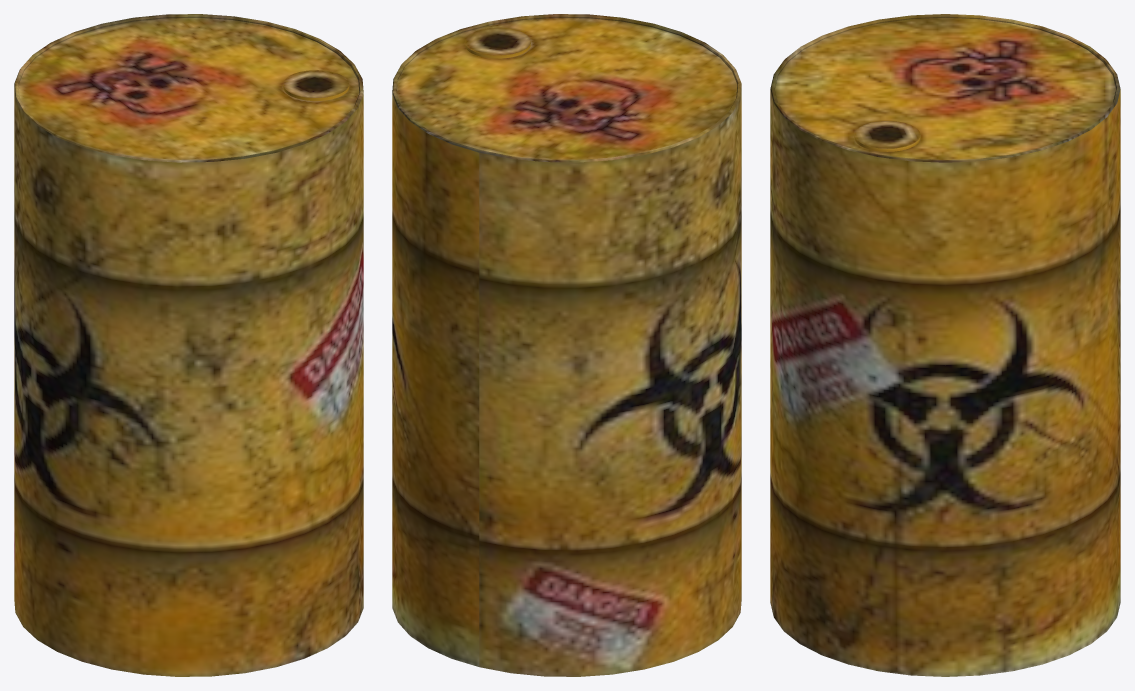
The model's file is biohazard_barrel___low_poly.glb.
The picture shows the model from 3 angles, left to right: view 1: azimuth 30°, elevation 25°; view 2: azimuth 150°, elevation 25°; view 3: azimuth 270°, elevation 25°; orthographic projection.
Visible parts, largest first — view 1: Cylinder; view 2: Cylinder; view 3: Cylinder.
Boxes of the visible parts, x1,y1,x2,y2 form: Cylinder: (14, 14, 363, 676); Cylinder: (392, 14, 741, 676); Cylinder: (770, 14, 1120, 676).
Size of the model in its own units: 1.33 by 2.17 by 1.33.
Materials: 1 (1 with a texture image).
